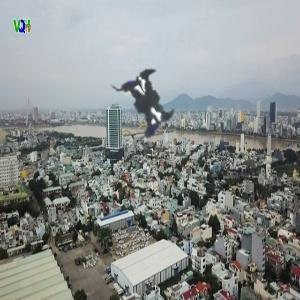drone: (62, 25, 225, 188)
